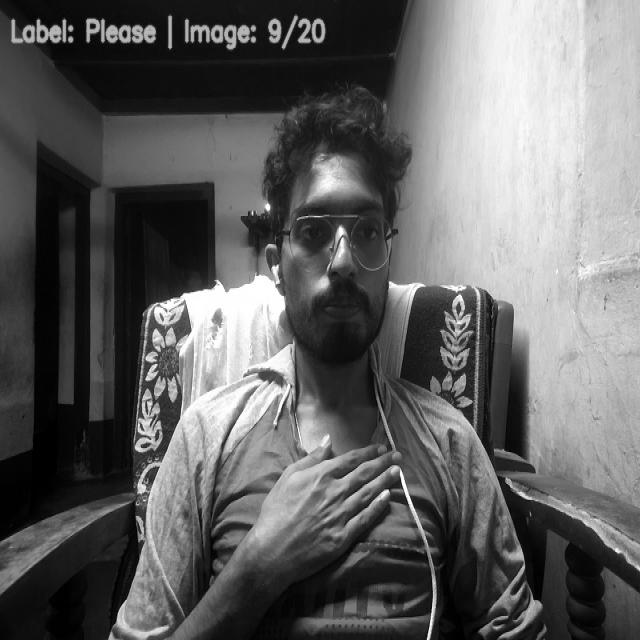Please: (254, 433, 405, 578)
